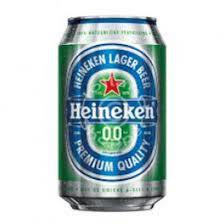beer: (58, 16, 165, 212)
